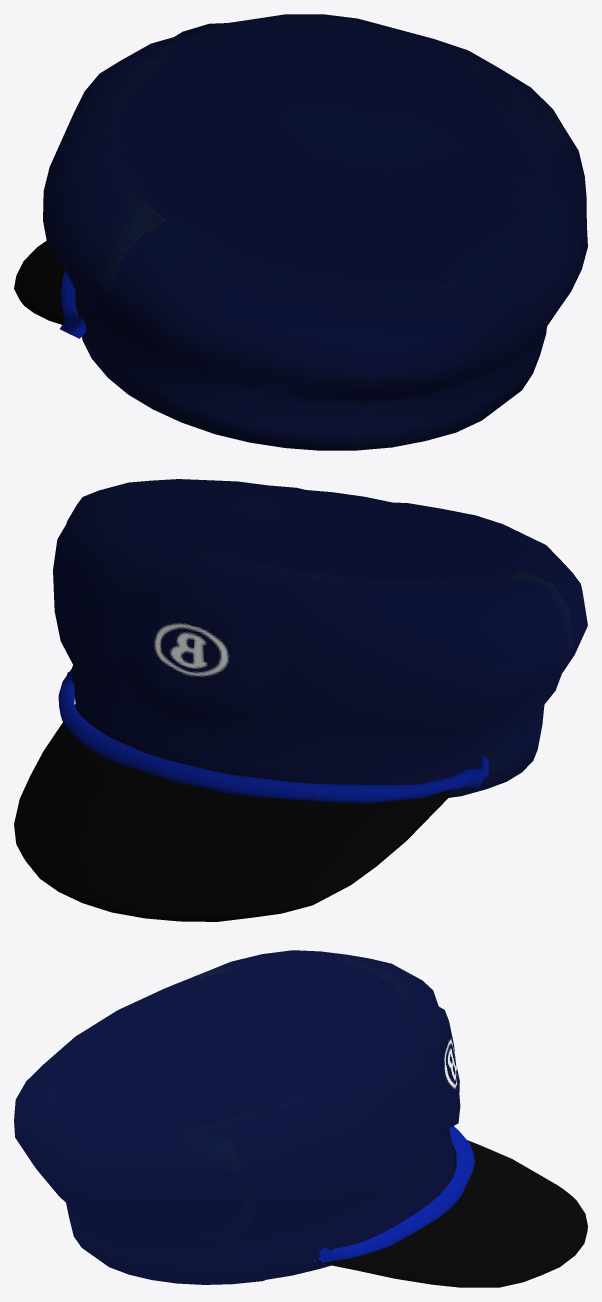
The model's file is hat (2).fbx.
The picture shows the model from 3 angles, top to bottom: view 1: azimuth 30°, elevation 25°; view 2: azimuth 150°, elevation 25°; view 3: azimuth 270°, elevation 25°; orthographic projection. The views are drawn at different scales.
Visible parts, largest first — view 1: Mesh; view 2: Mesh; view 3: Mesh.
Part boxes in pixels (x1=…): Mesh: x1=14, y1=14, x2=587, y2=450; Mesh: x1=14, y1=479, x2=587, y2=921; Mesh: x1=14, y1=950, x2=587, y2=1287.
Bounding box in the file's own units: 12.22 × 6.69 × 15.26.
1 material, 1 textured.
